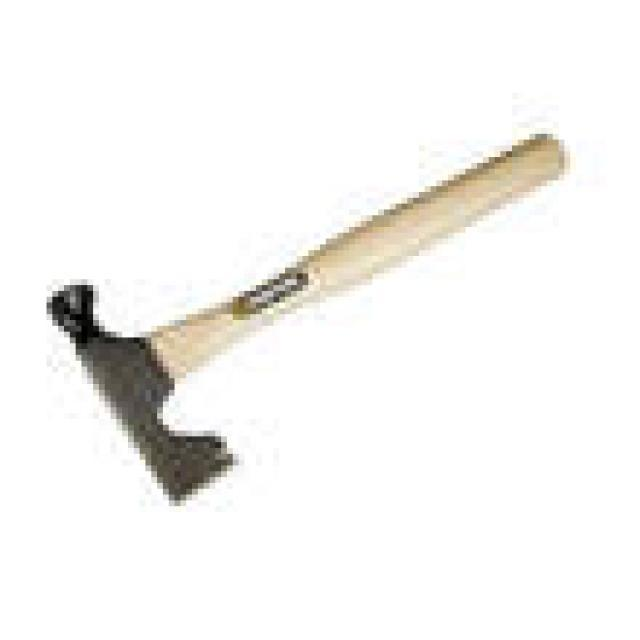hammer: (21, 124, 582, 512)
